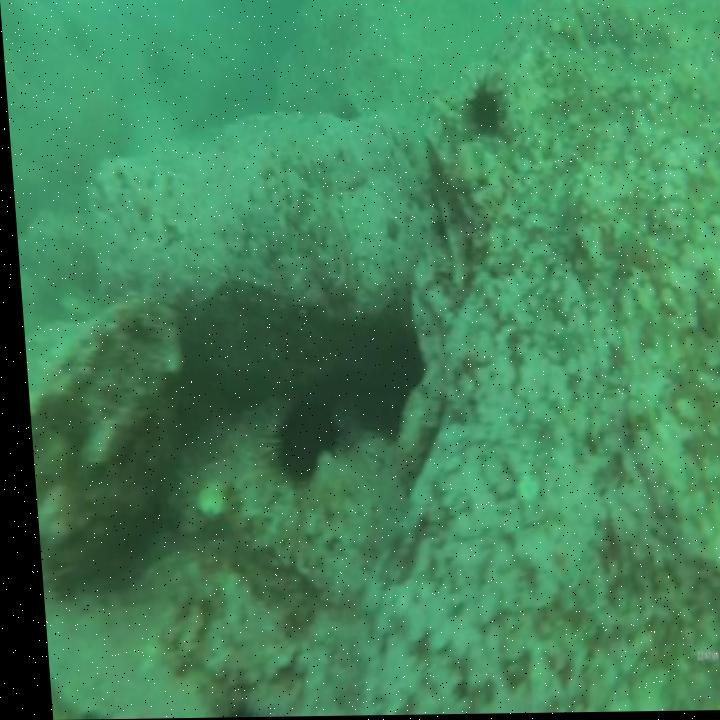echinus: (250, 388, 345, 488), (361, 354, 417, 442), (458, 79, 510, 146), (55, 4, 93, 62), (137, 32, 174, 89), (326, 94, 362, 130)
